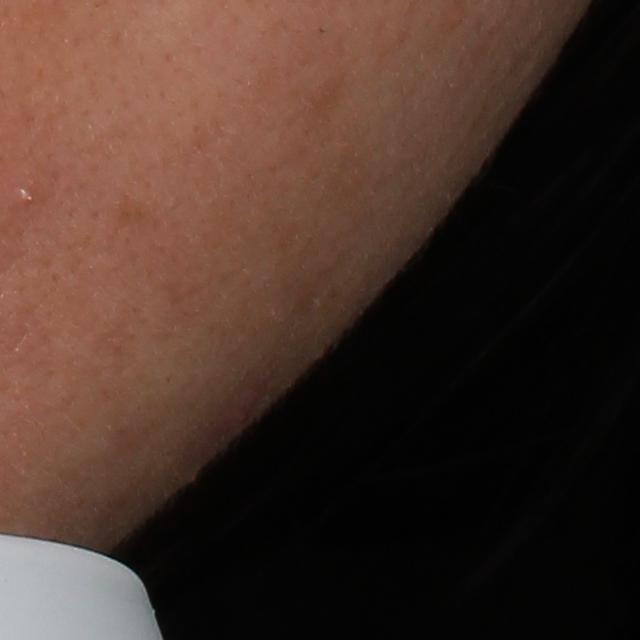pustule: (14, 176, 37, 206)
